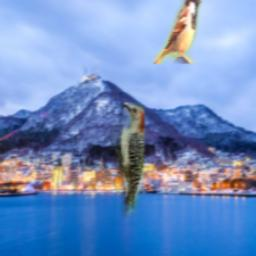Sparrow: (155, 0, 202, 65)
Woodpecker: (111, 104, 144, 221)
